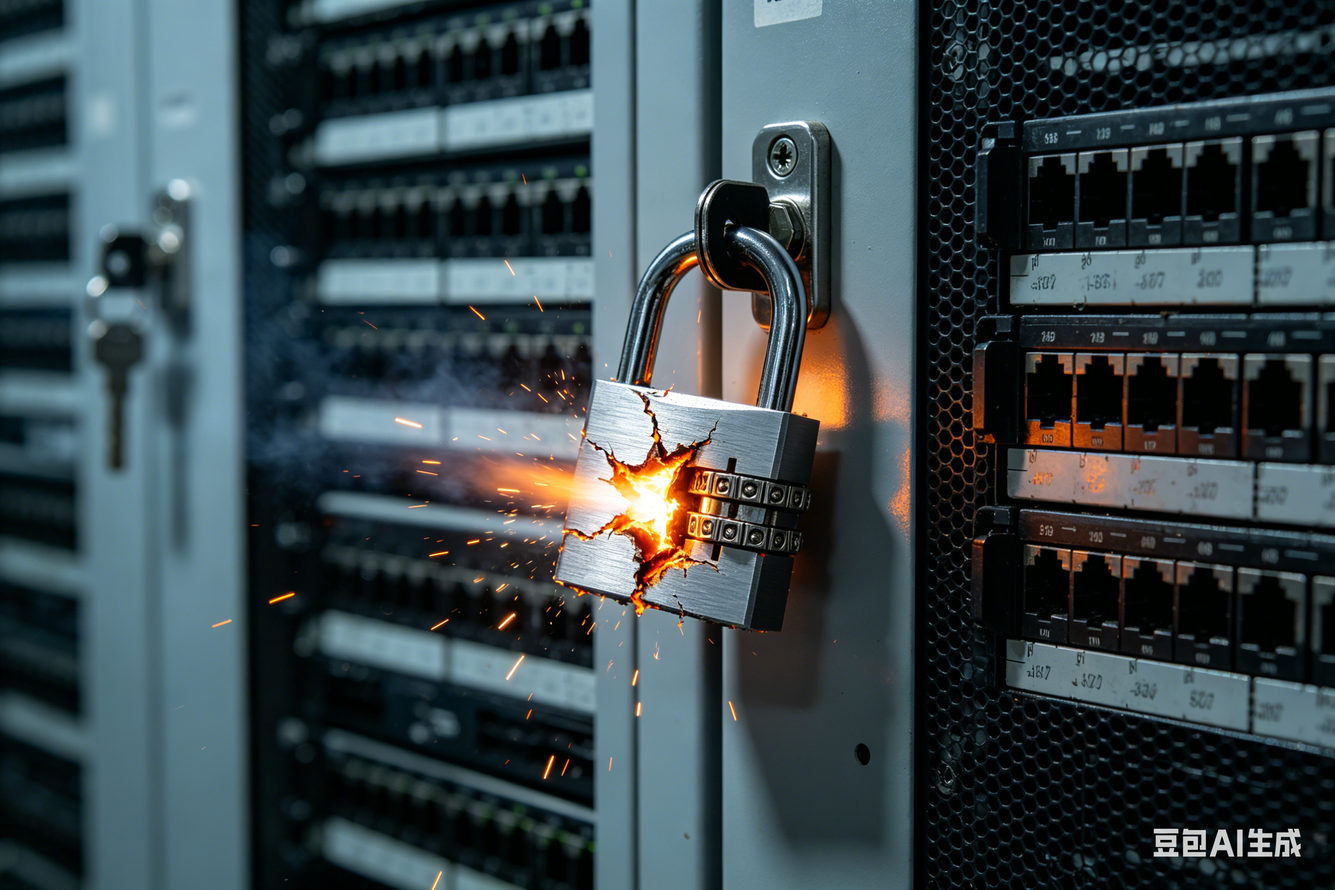BadLock: (579, 384, 761, 618)
